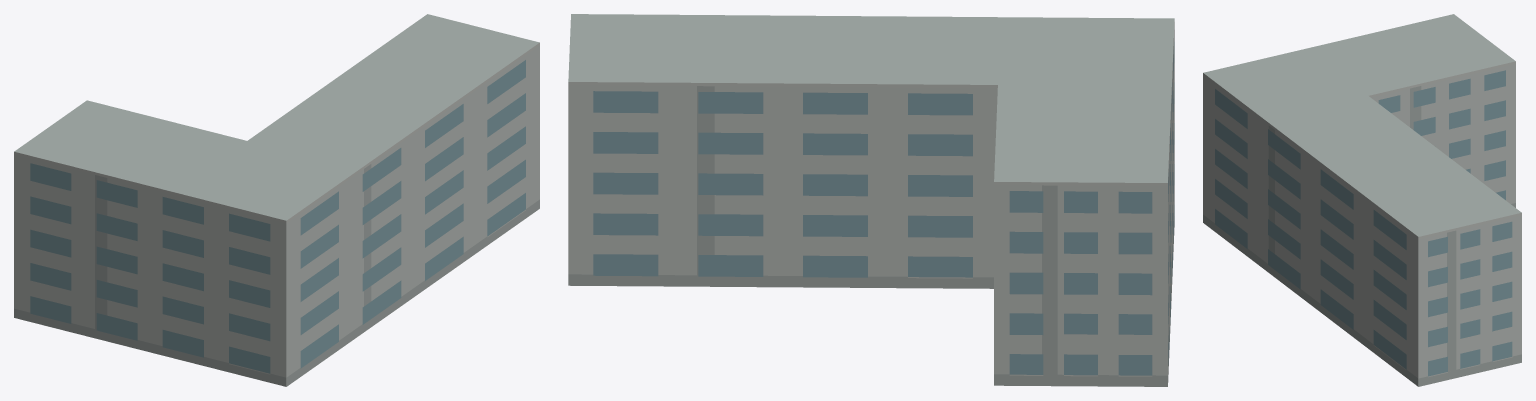
File: residential-12f1df2e-6d09-42e0-baf7-9365a1028caa.glb
3 renders of one model, left to right at view 1: azimuth 30°, elevation 25°; view 2: azimuth 150°, elevation 25°; view 3: azimuth 270°, elevation 25°, orthographic. The views are drawn at different scales.
Visible parts, largest first — view 1: residential-12f1df2e-6d09-42e0-baf7-9365a1028caa.tmp; view 2: residential-12f1df2e-6d09-42e0-baf7-9365a1028caa.tmp; view 3: residential-12f1df2e-6d09-42e0-baf7-9365a1028caa.tmp.
Boxes of the visible parts, bbox=[...] form: residential-12f1df2e-6d09-42e0-baf7-9365a1028caa.tmp: bbox=[14, 14, 539, 386]; residential-12f1df2e-6d09-42e0-baf7-9365a1028caa.tmp: bbox=[568, 14, 1174, 386]; residential-12f1df2e-6d09-42e0-baf7-9365a1028caa.tmp: bbox=[1203, 14, 1521, 386].
Size of the model in its own units: 48.63 by 15.25 by 29.39.
